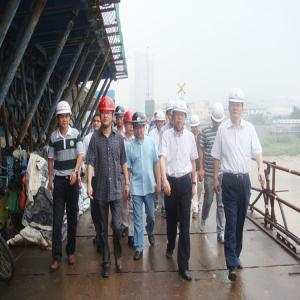none: (93, 113, 101, 132)
red: (99, 97, 117, 131), (123, 110, 134, 136)
white: (229, 86, 246, 121), (172, 101, 189, 130), (56, 102, 72, 129), (212, 104, 224, 128), (191, 115, 201, 135), (166, 100, 174, 125), (156, 112, 166, 130)
